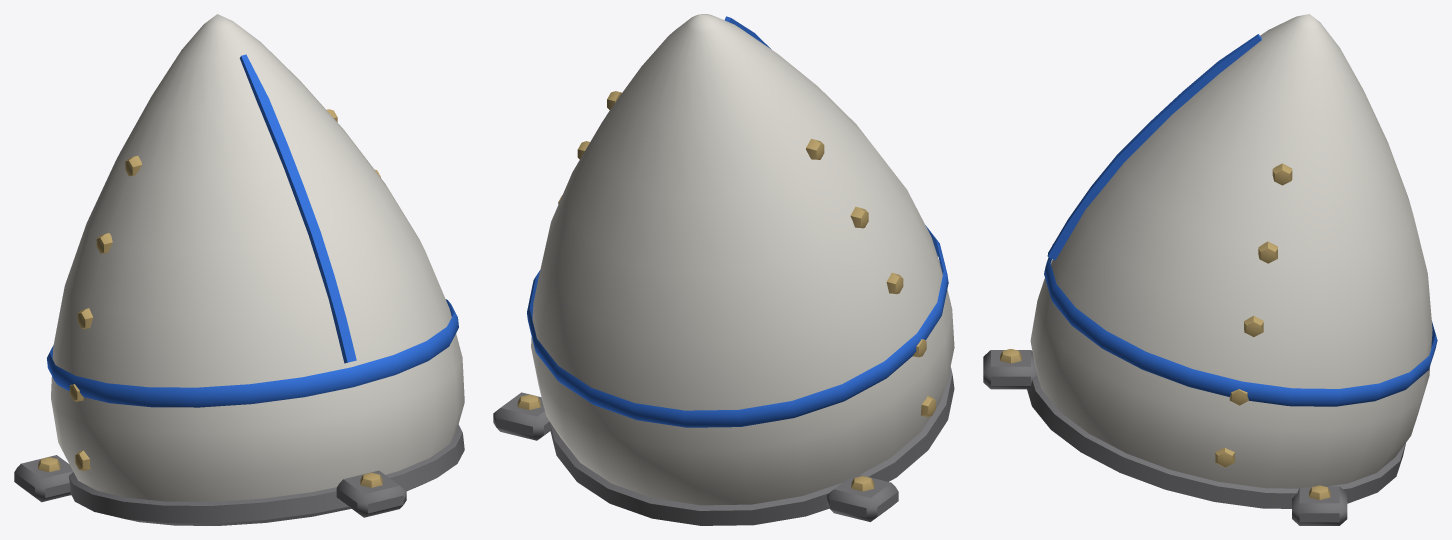
Rendered from Kit_Mod_Fairing.glb.
3 renders of one model, left to right at view 1: azimuth 30°, elevation 25°; view 2: azimuth 150°, elevation 25°; view 3: azimuth 270°, elevation 25°, orthographic. The views are drawn at different scales.
Parts seen in each view (by area): view 1: Kit_Mod_Fairing; view 2: Kit_Mod_Fairing; view 3: Kit_Mod_Fairing.
Part boxes in pixels (left/top/right/bottom): Kit_Mod_Fairing: left=14, top=14, right=464, bottom=525; Kit_Mod_Fairing: left=493, top=14, right=954, bottom=525; Kit_Mod_Fairing: left=983, top=14, right=1437, bottom=525.
Size of the model in its own units: 0.1675 by 0.1965 by 0.1813.
